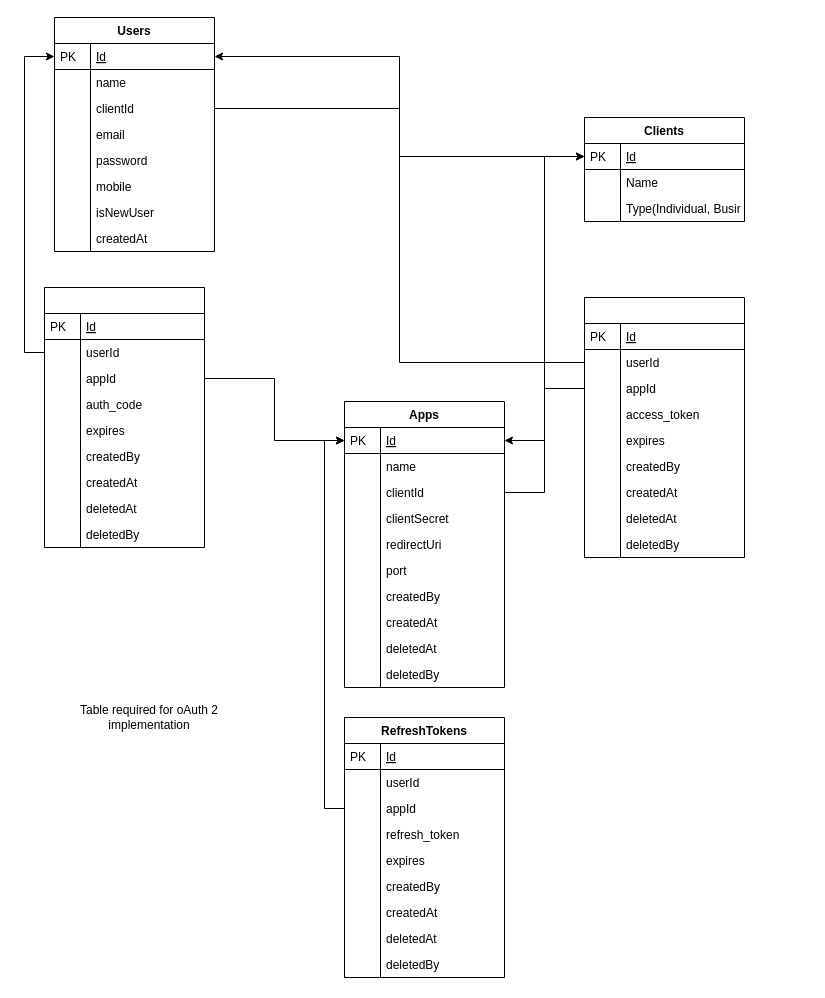
Image size: 825x998. Some labels were removed from this diagram. The box of each missing label's shape, as (x1, y1, x2, y2) in pixels:
AccessTokens: (584, 296, 744, 558)
AuthCodes: (44, 286, 204, 548)
